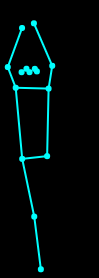tree: (2, 16, 65, 273)
